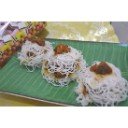idiyappam: (85, 61, 123, 105), (45, 46, 82, 84), (25, 35, 48, 65)
